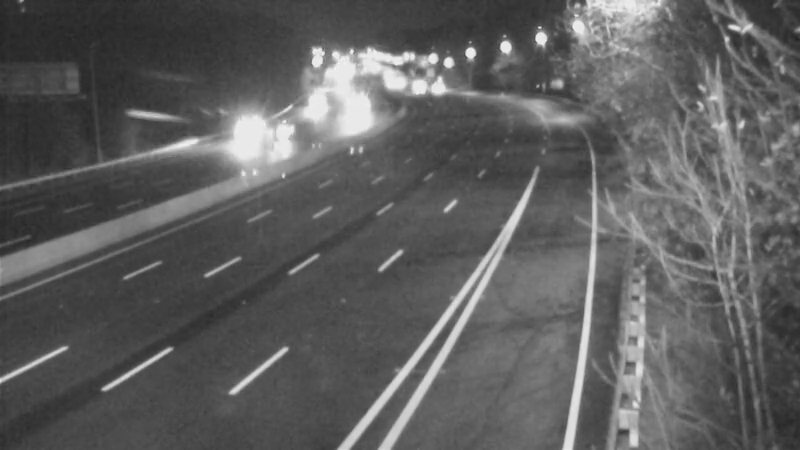vehicle: (222, 115, 272, 165), (332, 80, 382, 130), (292, 80, 342, 130)
